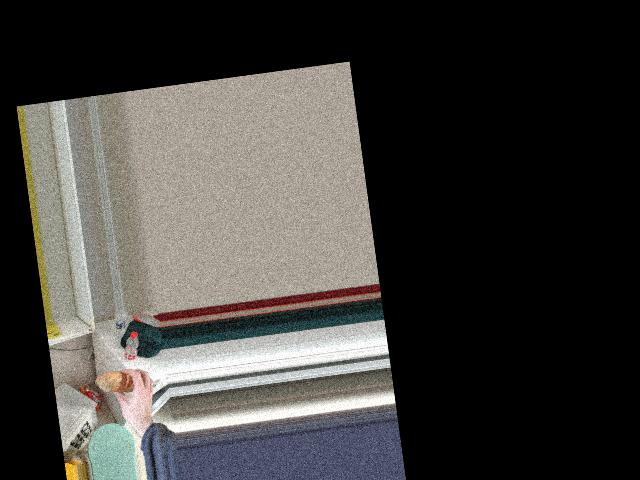sweet_potato: (106, 371, 145, 405)
